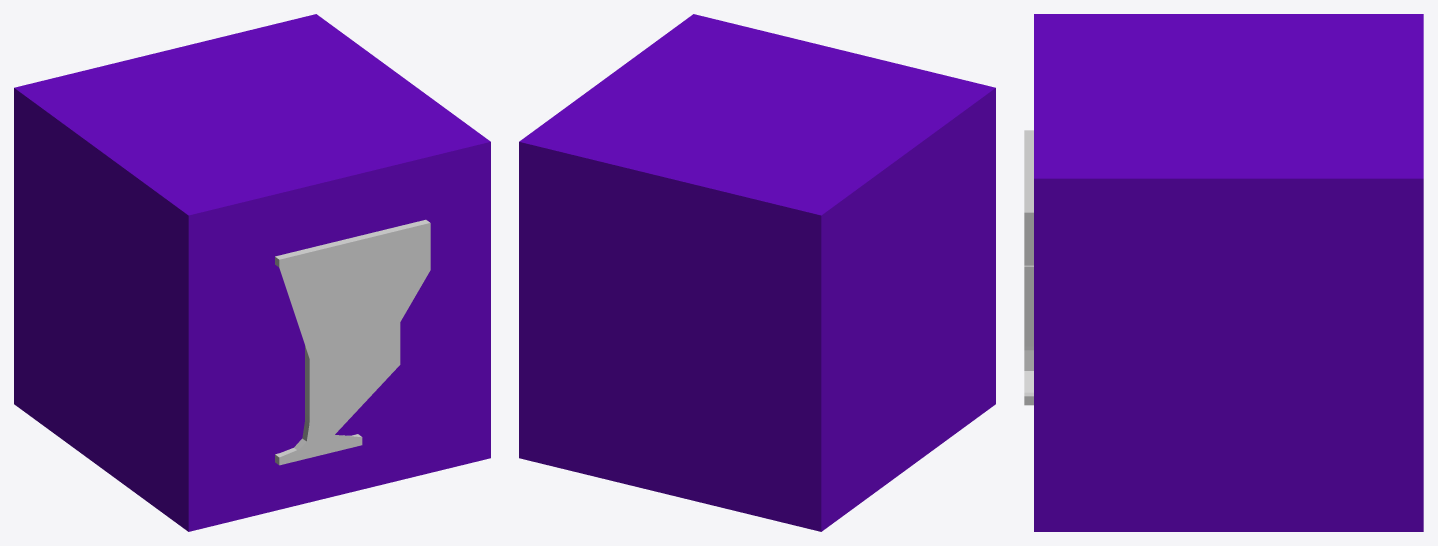
Rendered from Fblock.fbx.
The picture shows the model from 3 angles, left to right: view 1: azimuth 30°, elevation 25°; view 2: azimuth 150°, elevation 25°; view 3: azimuth 270°, elevation 25°; orthographic projection. The views are drawn at different scales.
Visible parts, largest first — view 1: pCube1, Trim_Char_F_1_1; view 2: pCube1; view 3: pCube1, Trim_Char_F_1_1.
Part boxes in pixels (<box>): pCube1: <box>14,14,490,531</box>; Trim_Char_F_1_1: <box>275,219,430,465</box>; pCube1: <box>519,14,995,531</box>; pCube1: <box>1034,14,1423,531</box>; Trim_Char_F_1_1: <box>1024,130,1033,405</box>.
Size of the model in its own units: 4 by 4 by 4.1.
